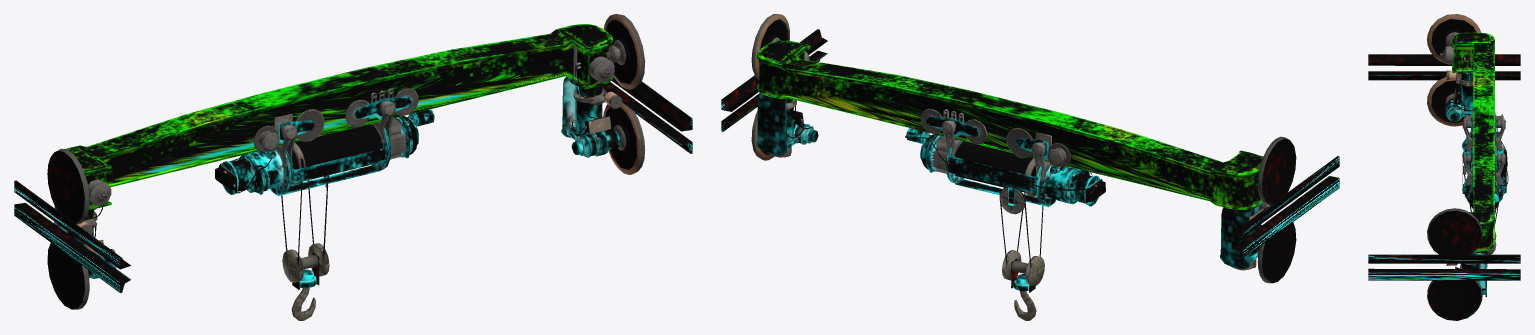
The model's file is overhead_crane.glb.
3 renders of one model, left to right at view 1: azimuth 30°, elevation 25°; view 2: azimuth 150°, elevation 25°; view 3: azimuth 270°, elevation 25°, orthographic. The views are drawn at different scales.
Parts seen in each view (by area): view 1: overhead_crane; view 2: overhead_crane; view 3: overhead_crane.
Boxes of the visible parts, box(x1,y1,x2,y2) form: overhead_crane: box(14, 14, 692, 320); overhead_crane: box(721, 14, 1339, 320); overhead_crane: box(1368, 14, 1520, 320).
Bounding box in the file's own units: 12.5 × 5.14 × 4.
2 materials, 2 textured.
